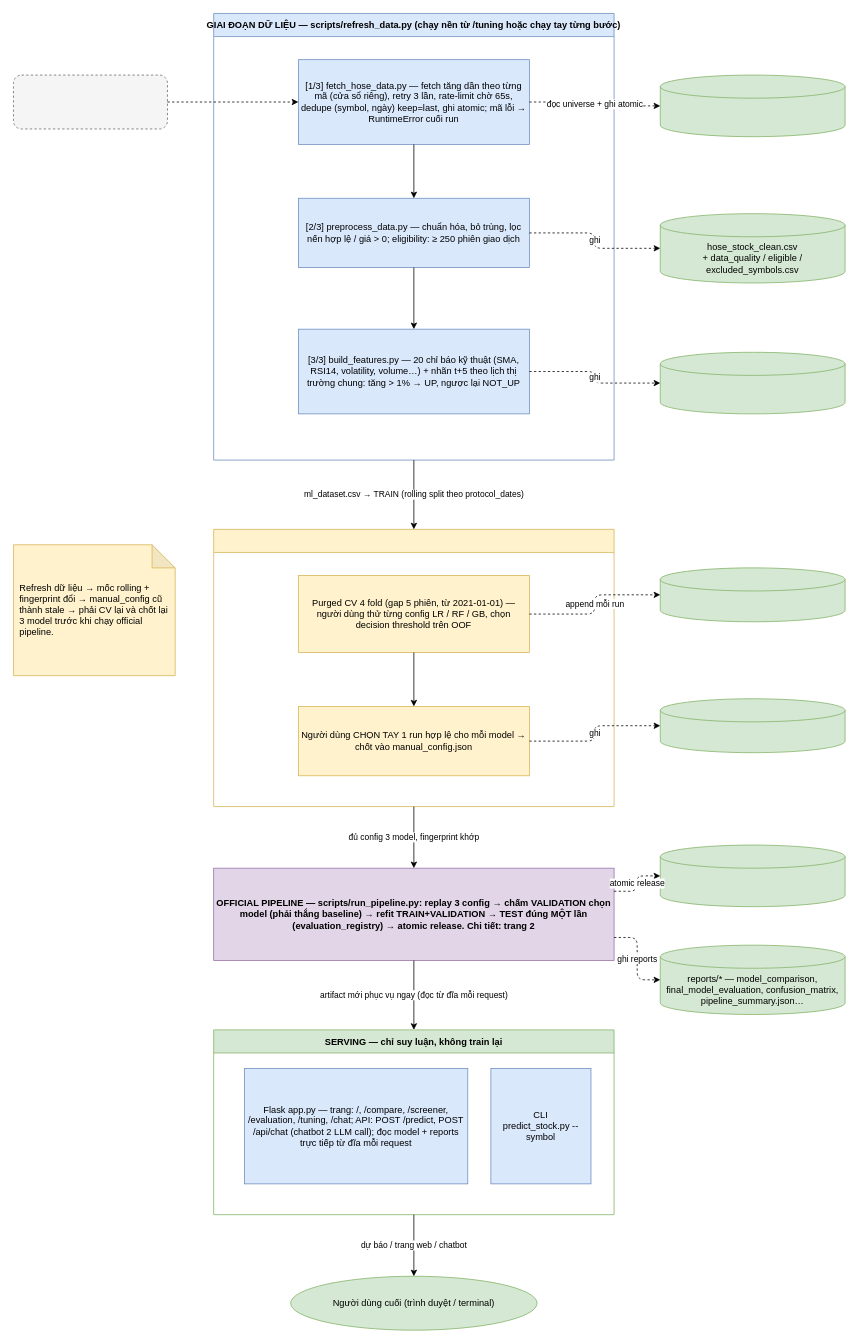
The diagram is 859 pixels wide and 1344 high, and some of its shapes have lost their labels. Each missing label, with the box of its shape:
experiments/ manual_config.json: (660, 698, 845, 753)
experiments/ tuning_history.csv: (660, 567, 845, 622)
hose_stock_raw.csv (shared_dataset, NGOÀI repo): (660, 74, 845, 137)
ml_dataset.csv + hose_stock_features.csv: (660, 352, 845, 414)
models/final_model.pkl + model_metadata.json: (660, 844, 845, 907)
THỬ NGHIỆM — Tuning Lab (/tuning), chỉ chạy trên TRAIN: (213, 529, 614, 807)
vnstock API quote history (nguồn KBS): (13, 74, 167, 129)
